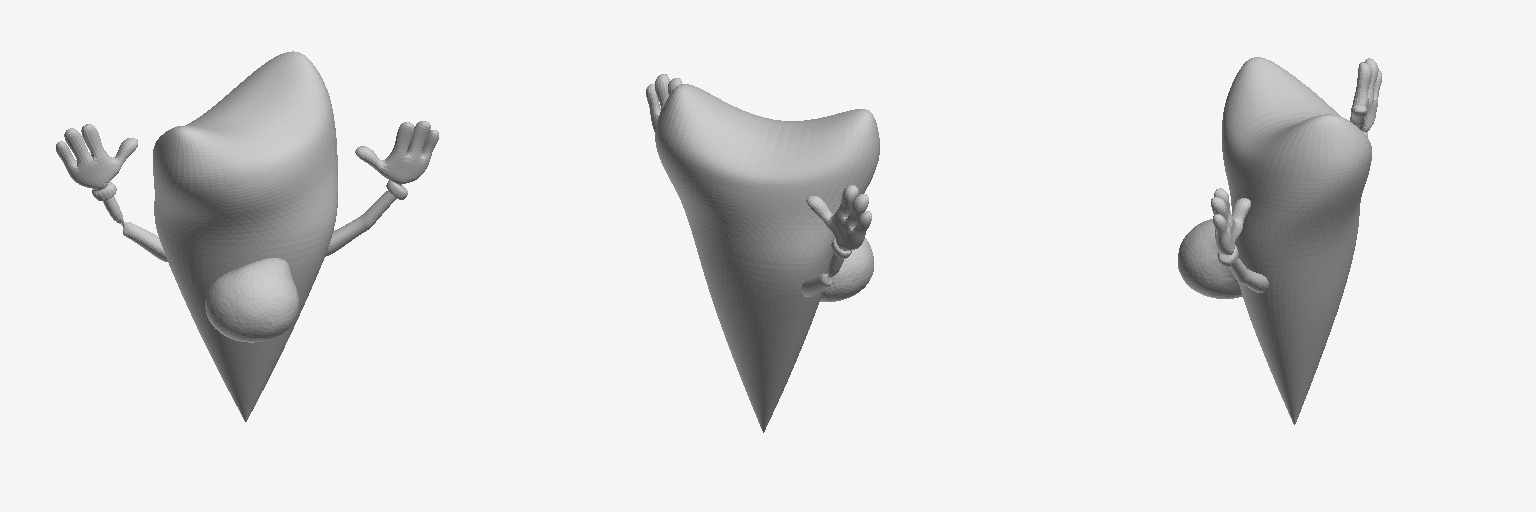
The model's file is java-duke5.obj.
3 renders of one model, left to right at view 1: azimuth 30°, elevation 25°; view 2: azimuth 150°, elevation 25°; view 3: azimuth 270°, elevation 25°, orthographic.
Visible parts, largest first — view 1: javadude, javadude_hands, javadude_nase; view 2: javadude, javadude_hands, javadude_nase; view 3: javadude, javadude_hands, javadude_nase.
Boxes of the visible parts, x1=… form: javadude: x1=153, y1=51, x2=337, y2=421; javadude_hands: x1=56, y1=121, x2=438, y2=261; javadude_nase: x1=205, y1=258, x2=298, y2=342; javadude: x1=655, y1=84, x2=879, y2=432; javadude_hands: x1=646, y1=74, x2=871, y2=296; javadude_nase: x1=820, y1=238, x2=873, y2=301; javadude: x1=1222, y1=57, x2=1371, y2=424; javadude_hands: x1=1211, y1=58, x2=1381, y2=292; javadude_nase: x1=1178, y1=219, x2=1242, y2=298.
Size of the model in its own units: 3.74 by 4.02 by 2.18.